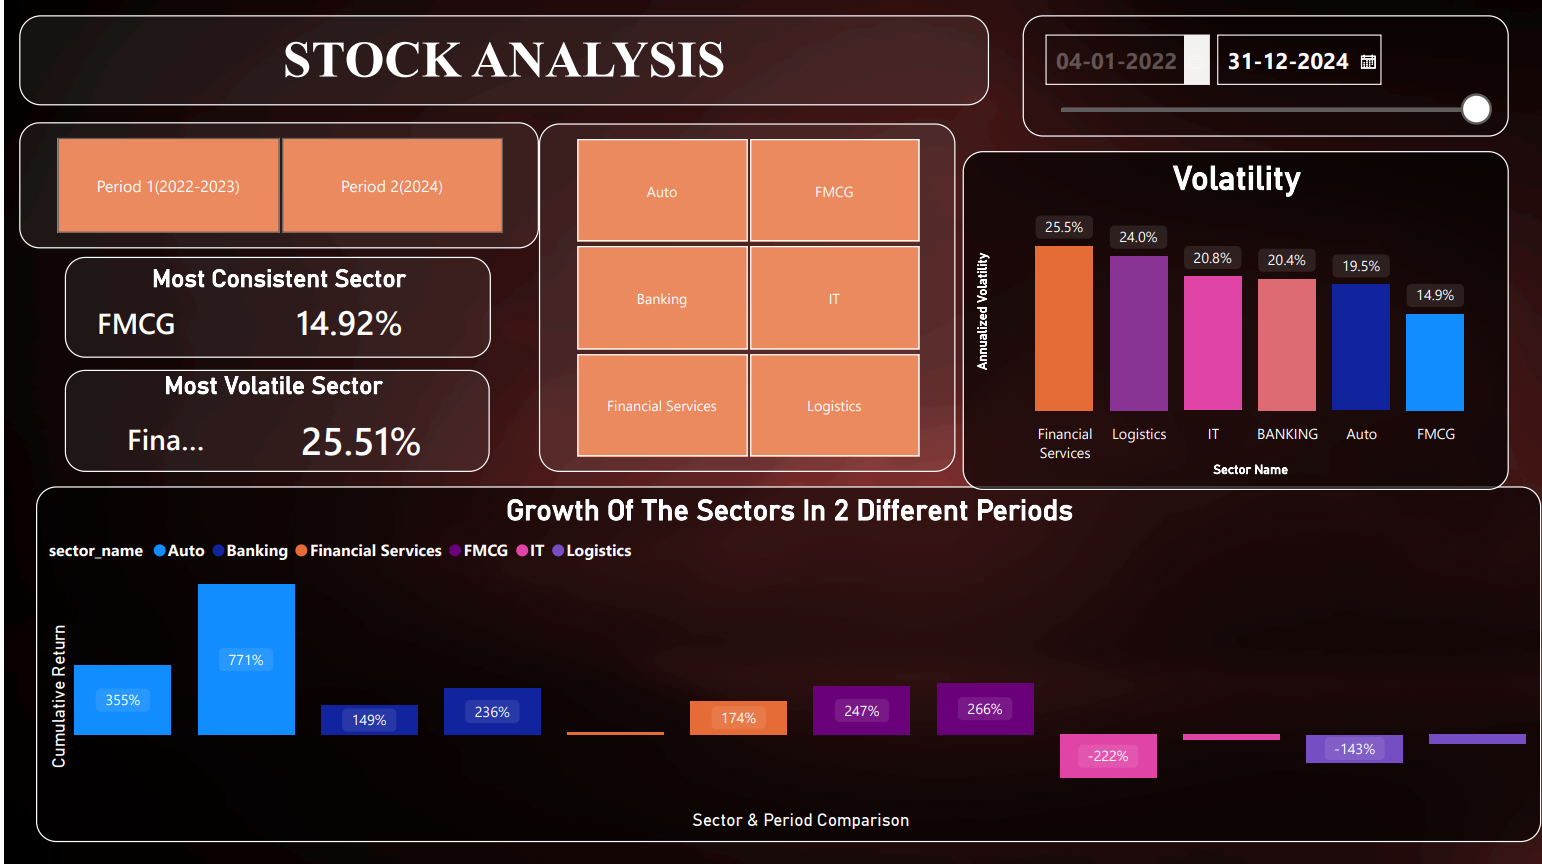

This screenshot's page, from the dashboard's own definition file:
{"tool":"powerbi","page":{"name":"Page 1","canvas":[1280,720],"ordinal":0},"visuals":[{"type":"columnChart","title":"Growth Of The Sectors In 2 Different Periods","fields":{"Series":["sectors.sector_name"],"Category":["sectors.sector_name","sector_return.Periods"],"Y":["Sum(sector_return.cumulative/100)"]},"box":[25.7,404.3,1253.8,295.3],"z":1000},{"type":"columnChart","title":"Volatility","fields":{"Category":["public sector_volatility.sector_name"],"Y":["Sum(public sector_volatility.annualized_salary)"]},"box":[798.3,125,455,281.7],"z":2000},{"type":"textbox","box":[11.7,11.7,808.3,75],"z":3000},{"type":"cardVisual","title":"Most Volatile Sector","fields":{"Data":["sector_volatility.Most Volatile Sector","sector_volatility.Most Volatile"]},"box":[50,307.4,354.3,84.8],"z":4000},{"type":"cardVisual","title":"Most Consistent Sector","fields":{"Data":["sector_volatility.Least Volatile Sector","sector_volatility.Least Volatile"]},"box":[50,213.3,355,83.3],"z":5000},{"type":"slicer","fields":{"Values":["sector_return.Periods"]},"box":[12.1,101.5,433.1,104.5],"z":6000},{"type":"slicer","fields":{"Values":["sectors.sector_name"]},"box":[445,101.7,346.7,290],"z":7000},{"type":"slicer","title":"Date","fields":{"Values":["sector_return.date"]},"box":[848.3,11.7,405,101.7],"z":8000}]}

Visuals, with their boxes in screenshot pixels (x1, y1, x2, y2), scaled from the page's 1280x720 canvas onto the 1542x864 screenshot:
"Growth Of The Sectors In 2 Different Periods" columnChart: [x1=31, y1=485, x2=1541, y2=840]
"Volatility" columnChart: [x1=962, y1=150, x2=1510, y2=488]
textbox: [x1=14, y1=14, x2=988, y2=104]
"Most Volatile Sector" cardVisual: [x1=60, y1=369, x2=487, y2=471]
"Most Consistent Sector" cardVisual: [x1=60, y1=256, x2=488, y2=356]
slicer - sector_return.Periods: [x1=15, y1=122, x2=536, y2=247]
slicer - sectors.sector_name: [x1=536, y1=122, x2=954, y2=470]
"Date" slicer: [x1=1022, y1=14, x2=1510, y2=136]
